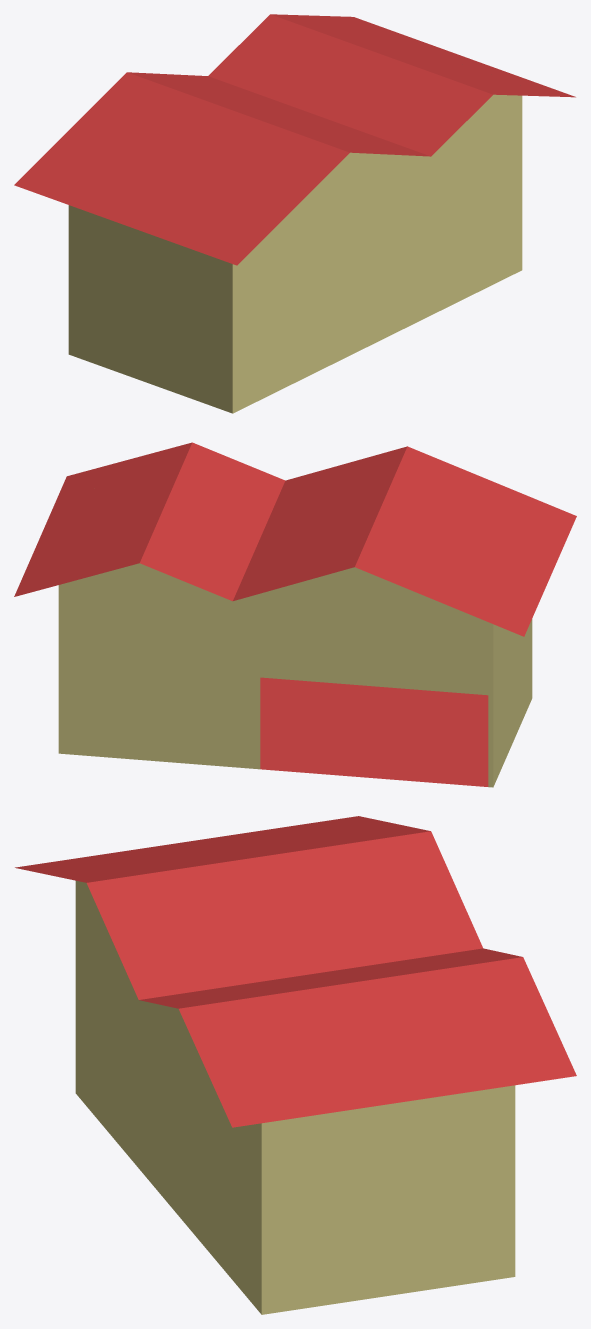
3 renders of one model, top to bottom at view 1: azimuth 30°, elevation 25°; view 2: azimuth 150°, elevation 25°; view 3: azimuth 270°, elevation 25°, orthographic. The views are drawn at different scales.
Bounding box in the file's own units: 22.86 × 17.45 × 9.73.
